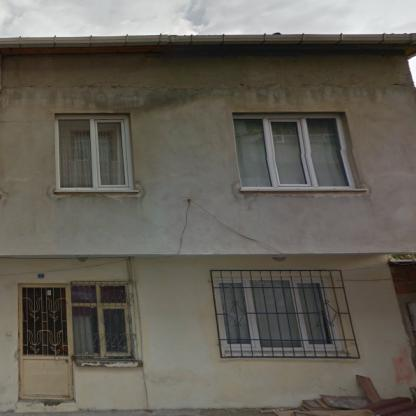door: (19, 285, 71, 396)
window: (235, 117, 351, 187), (218, 278, 333, 346), (59, 119, 127, 188), (74, 284, 132, 356)
